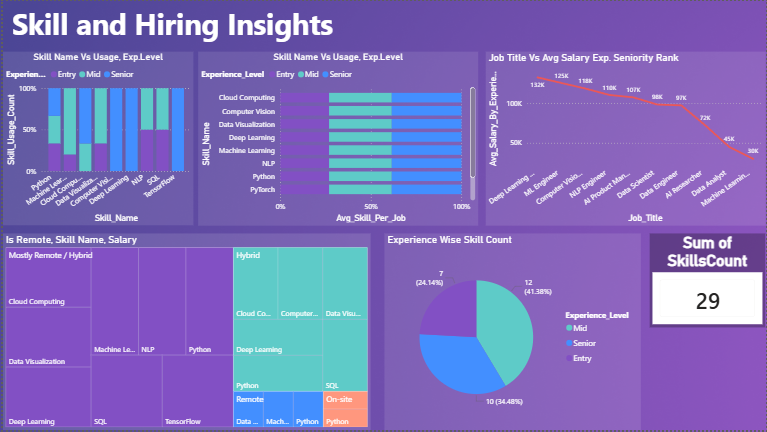

What the dashboard file says about the page in this screenshot:
{"tool":"powerbi","page":{"name":"Skill and Hiring Insights ","canvas":[1280,720],"ordinal":3},"visuals":[{"type":"textbox","box":[9,0,647.8,81],"z":0},{"type":"hundredPercentStackedColumnChart","title":"Skill Name Vs Usage, Exp.Level","fields":{"Series":["Fact_Jobs.Experience_Level"],"Category":["Dim_Skills.Skill_Name"],"Y":["Dim_Skills.Skill_Usage_Count"]},"box":[0,84.6,319.7,291.5],"z":1},{"type":"treemap","title":"Is Remote, Skill Name, Salary","fields":{"Group":["Fact_Jobs.IsRemote"],"Details":["Dim_Skills.Skill_Name"],"Values":["Sum(Fact_Jobs.Salary_USD)"]},"box":[0,390,616.7,330],"z":2},{"type":"lineChart","title":"Job Title Vs Avg Salary Exp. Seniority Rank","fields":{"Category":["Fact_Jobs.Job_Title"],"Y":["Fact_Jobs.Avg_Salary_By_Experience"]},"box":[810,85,470,291.7],"z":3},{"type":"cardVisual","title":"Sum of SkillsCount","fields":{"Data":["Sum(Fact_Jobs.SkillsCount)"]},"box":[1086,390,194,158],"z":4},{"type":"hundredPercentStackedBarChart","title":"Skill Name Vs Usage, Exp.Level","fields":{"Category":["Dim_Skills.Skill_Name"],"Series":["Fact_Jobs.Experience_Level"],"Y":["Fact_Job_Skills.Avg_Skill_Per_Job"]},"box":[328.3,85,470,291.7],"z":5},{"type":"pieChart","title":"Experience Wise Skill Count","fields":{"Category":["Fact_Jobs.Experience_Level"],"Y":["Dim_Skills.Skill_Usage_Count"]},"box":[640,390,430,330],"z":6}]}

Visuals, with their boxes in screenshot pixels (x1, y1, x2, y2), scaled from the page's 1280x720 canvas onto the 767x432 screenshot:
textbox: [5, 0, 394, 49]
"Skill Name Vs Usage, Exp.Level" hundredPercentStackedColumnChart: [0, 51, 192, 226]
"Is Remote, Skill Name, Salary" treemap: [0, 234, 370, 431]
"Job Title Vs Avg Salary Exp. Seniority Rank" lineChart: [485, 51, 766, 226]
"Sum of SkillsCount" cardVisual: [651, 234, 766, 329]
"Skill Name Vs Usage, Exp.Level" hundredPercentStackedBarChart: [197, 51, 478, 226]
"Experience Wise Skill Count" pieChart: [384, 234, 641, 431]
